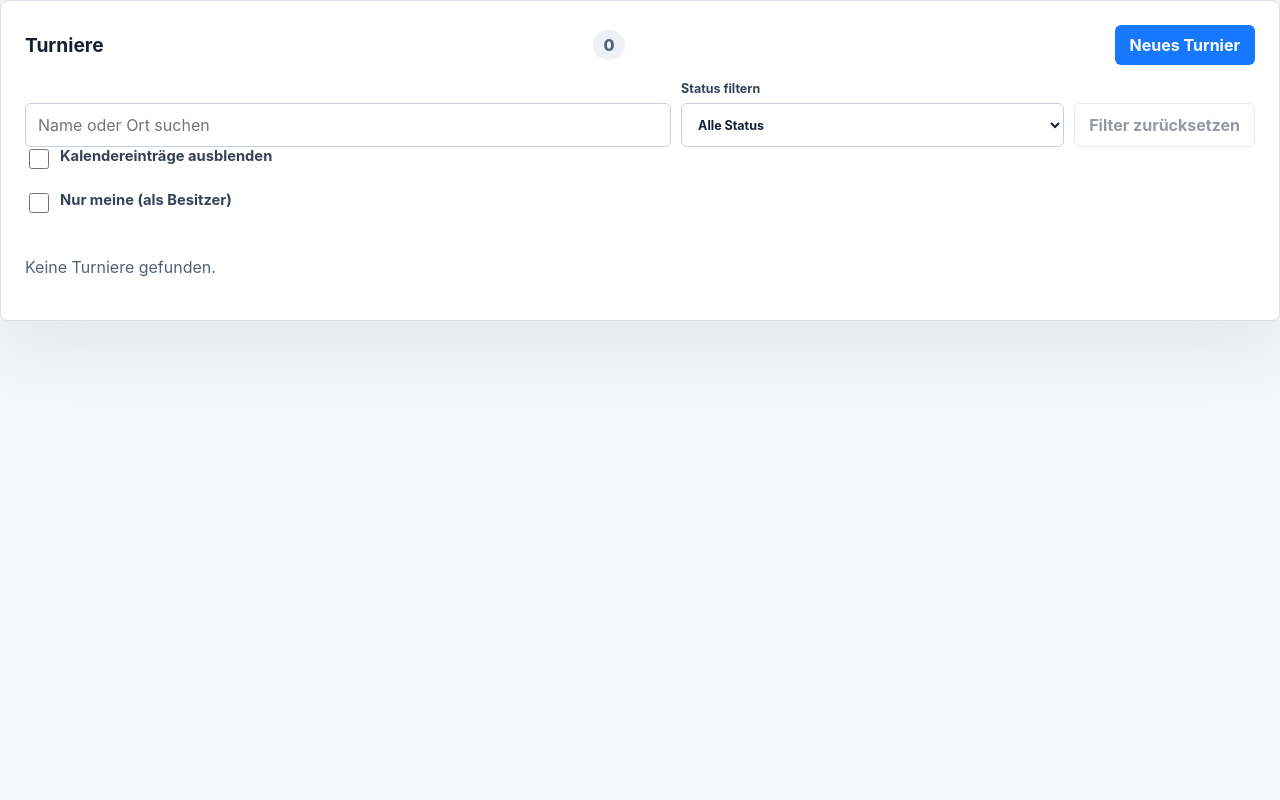
Test case: Hinweis für Turniersysteme ohne Online-Durchführung › zeigt beim Anlegen erst bei einem nicht unterstützten Turniersystem den roten Hinweis mit PTM Desktop
The image size is (1280, 800).
Click the button "Neues Turnier" at (1185, 45), box [1115,25,1255,65]
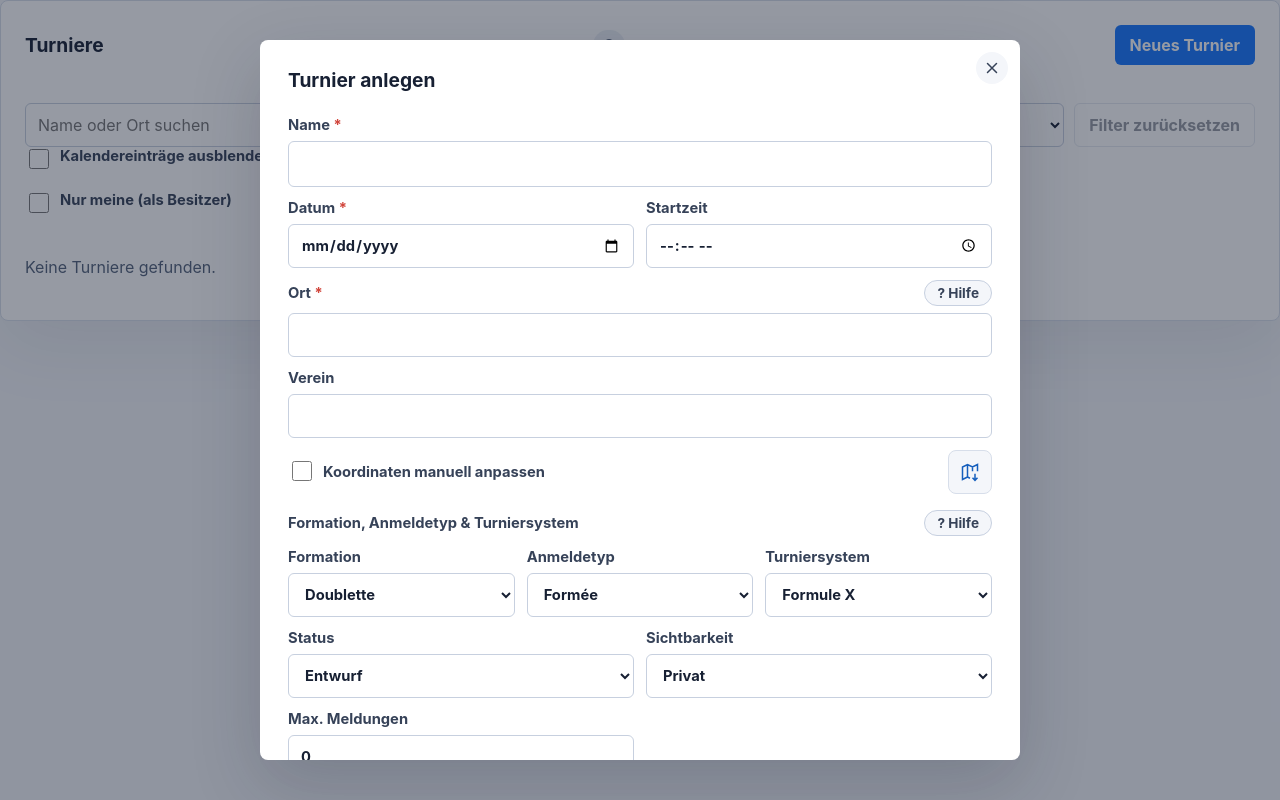
Select "Schweizer" in the dropdown labelled "Turniersystem" at (879, 595), box [765,573,992,617]
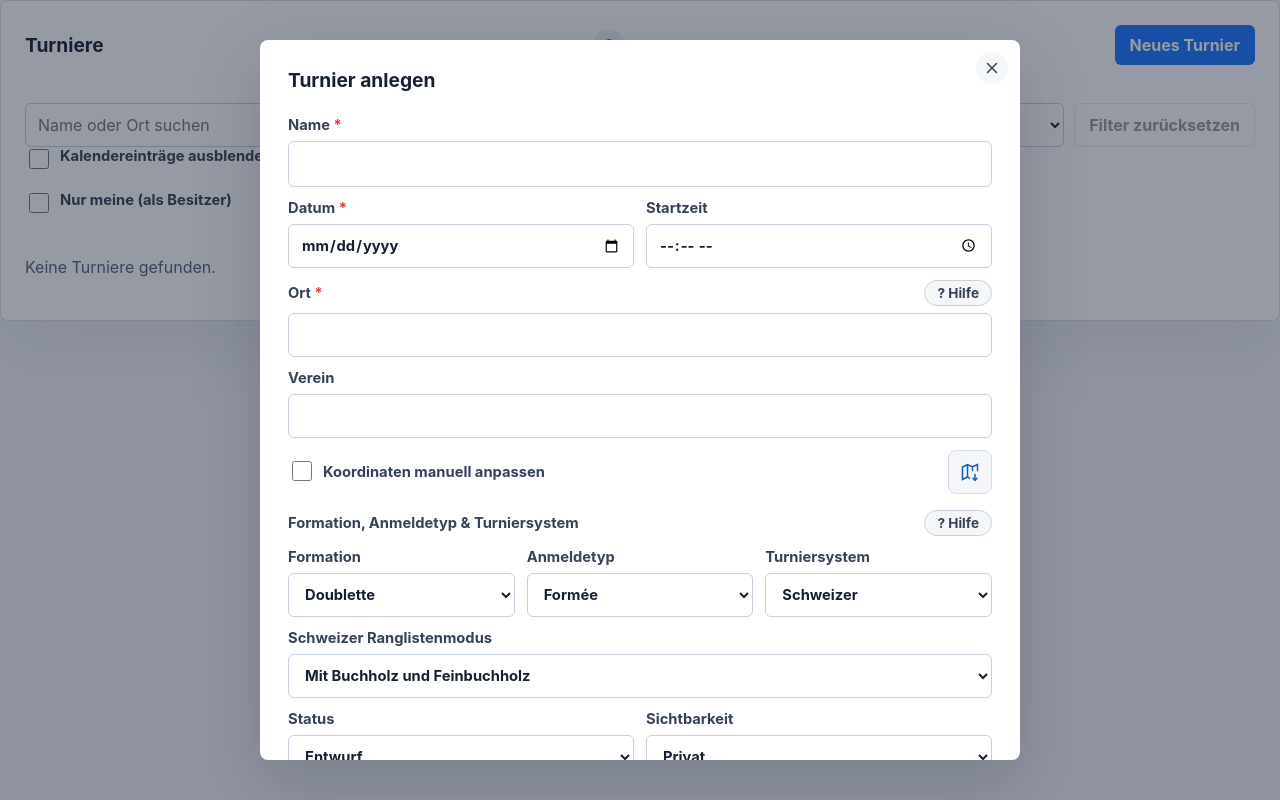
Expected: the text "Nicht online durchführbar" is not shown
Select "Liga" in the dropdown labelled "Turniersystem" at (879, 595), box [765,573,992,617]
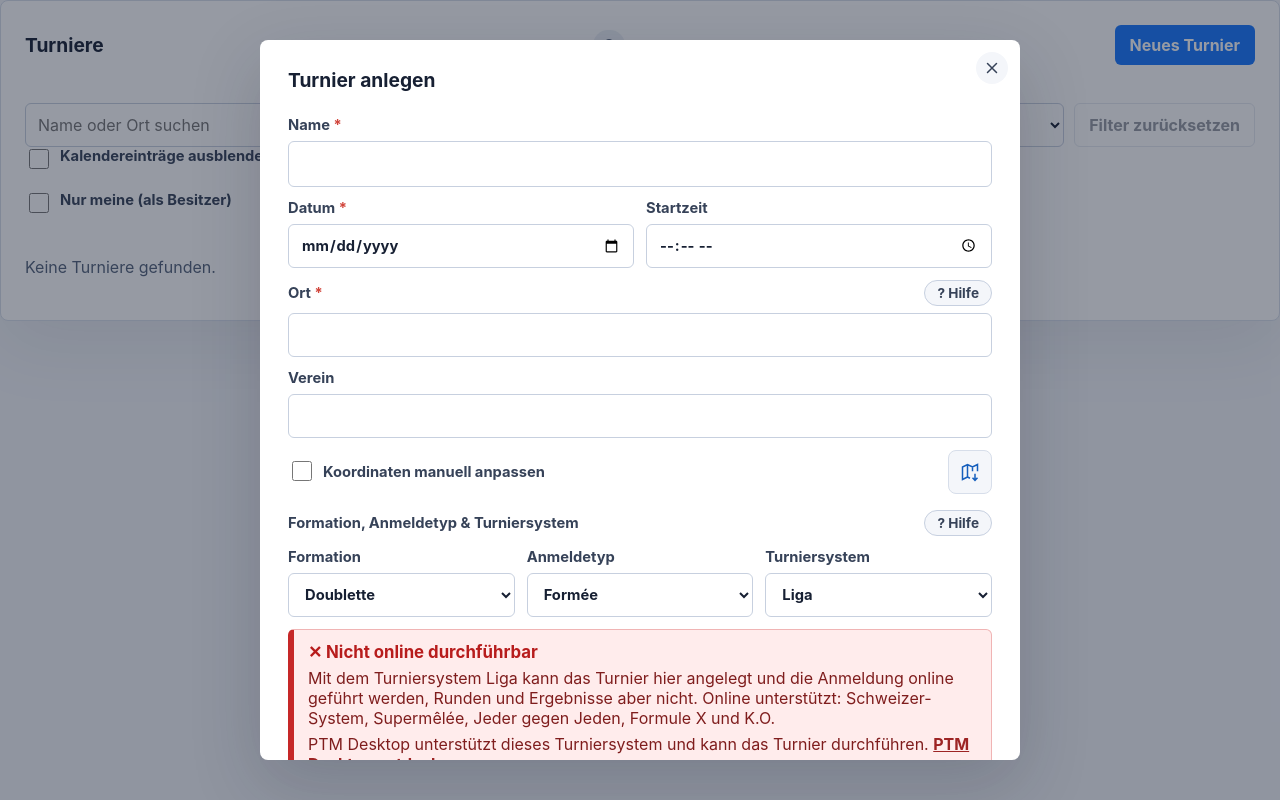
Expected: the text "Nicht online durchführbar" shows "Turniersystem Liga", [308,668,954,708]
Expected: the text "Nicht online durchführbar" shows "Online unterstützt:", [308,688,932,728]
Expected: the text "Nicht online durchführbar" shows "PTM Desktop unterstützt dieses Turniersystem", [308,734,929,754]
